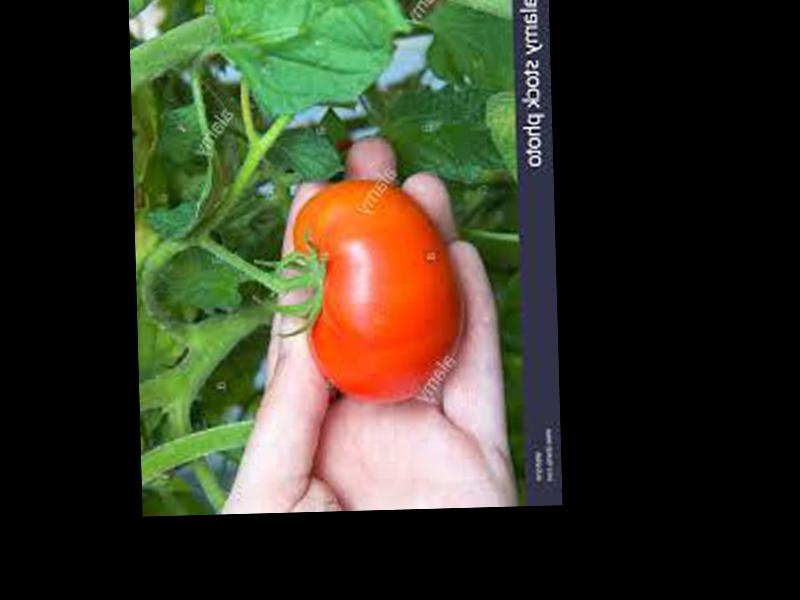Tomato: (292, 177, 460, 406)
